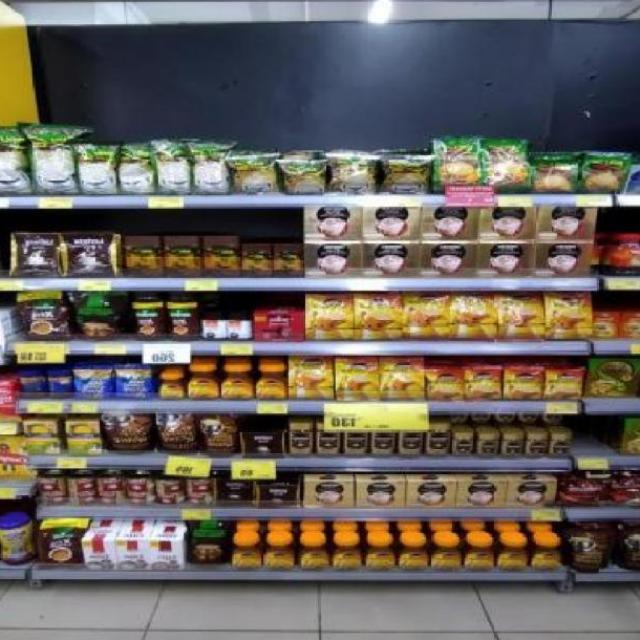Coffee: (543, 292, 592, 340), (402, 293, 450, 341), (355, 293, 402, 340), (449, 292, 495, 340), (306, 294, 354, 340), (497, 293, 543, 339), (289, 356, 333, 399), (380, 359, 423, 400), (336, 359, 378, 400), (502, 367, 542, 400), (464, 368, 503, 400), (545, 369, 583, 401), (426, 369, 464, 400), (220, 366, 253, 400), (187, 364, 218, 400), (255, 366, 285, 400), (495, 542, 528, 571), (365, 541, 397, 570), (263, 541, 295, 570), (463, 542, 494, 571), (530, 541, 561, 570), (431, 541, 462, 570), (232, 540, 263, 569), (332, 541, 362, 570), (299, 542, 330, 570), (397, 425, 422, 459), (399, 542, 429, 570), (289, 423, 313, 457), (316, 424, 340, 458), (370, 424, 394, 458), (342, 424, 366, 458), (425, 425, 450, 457), (160, 374, 186, 399), (525, 433, 547, 459), (452, 433, 474, 458), (549, 435, 571, 460), (502, 434, 524, 458), (477, 434, 499, 458)
